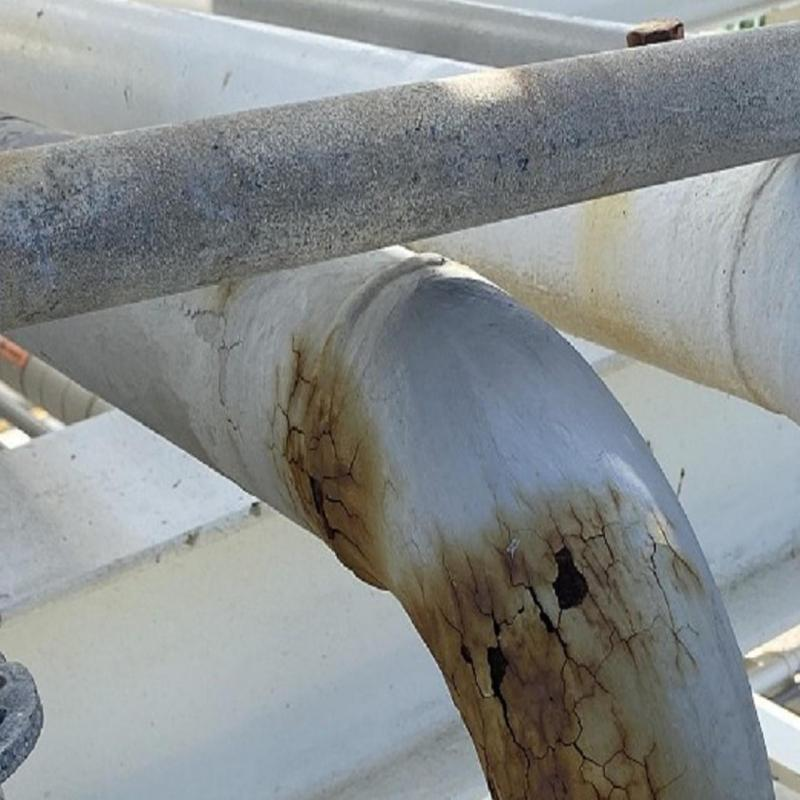corrosion: (281, 367, 379, 565), (446, 589, 529, 737), (519, 542, 673, 612), (548, 672, 612, 789)
